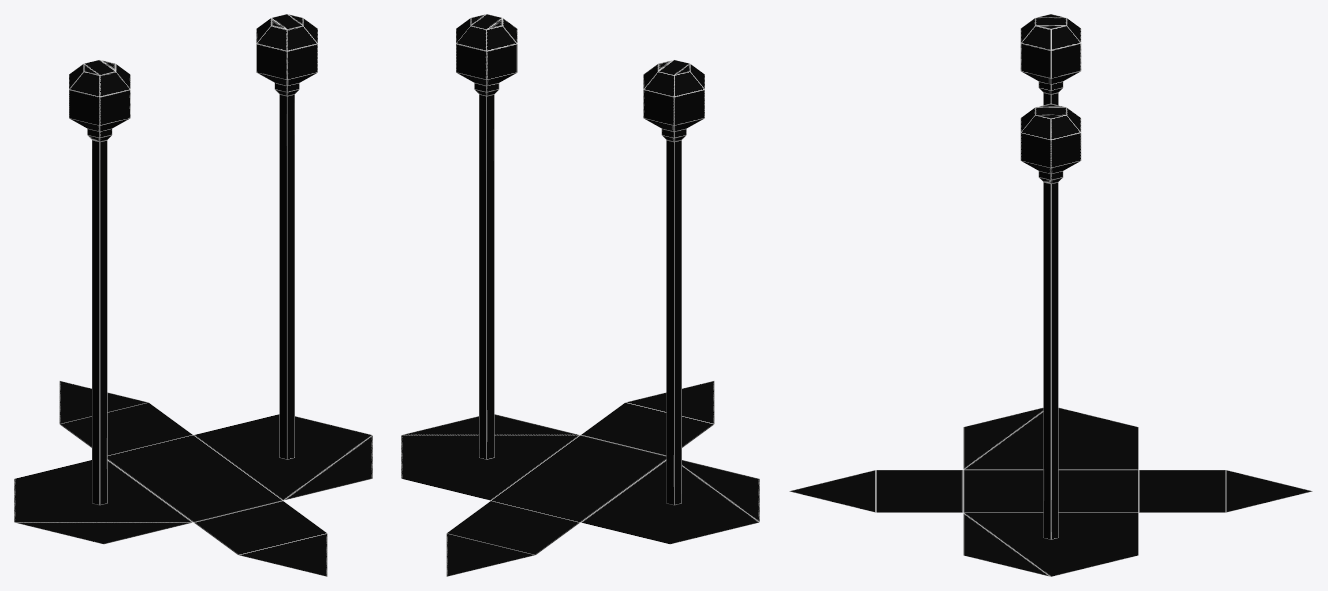
The picture shows the model from 3 angles, left to right: view 1: azimuth 30°, elevation 25°; view 2: azimuth 150°, elevation 25°; view 3: azimuth 270°, elevation 25°; orthographic projection. The views are drawn at different scales.
Visible parts, largest first — view 1: DD_03; view 2: DD_03; view 3: DD_03.
Part boxes in pixels (x1,y1,x2,y2): DD_03: (14,14,372,576); DD_03: (401,14,759,576); DD_03: (789,14,1312,576).
Bounding box in the file's own units: 510 × 589 × 660.
Materials: 1 (1 with a texture image).
